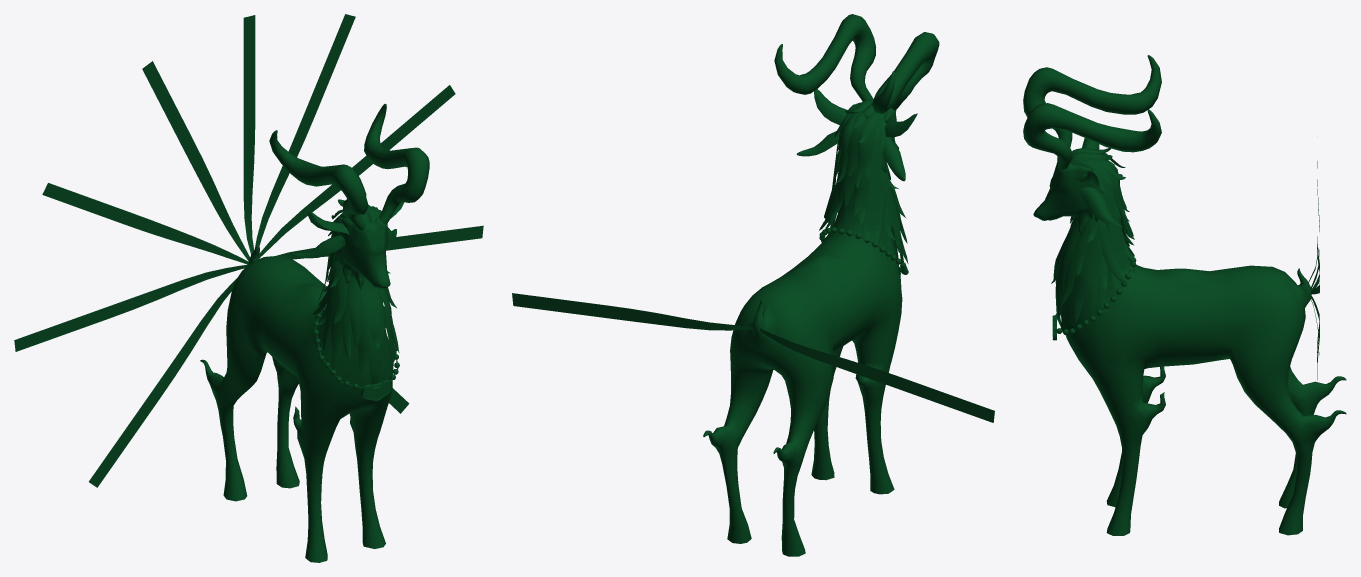
The model's file is yang_low.fbx.
The picture shows the model from 3 angles, left to right: view 1: azimuth 30°, elevation 25°; view 2: azimuth 150°, elevation 25°; view 3: azimuth 270°, elevation 25°; orthographic projection. The views are drawn at different scales.
Visible parts, largest first — view 1: 对象042; view 2: 对象042; view 3: 对象042.
Part boxes in pixels (left/top/right/bottom): 对象042: left=14, top=14, right=483, bottom=562; 对象042: left=512, top=14, right=994, bottom=556; 对象042: left=1023, top=55, right=1346, bottom=535.
Bounding box in the file's own units: 246 × 233 × 143.
